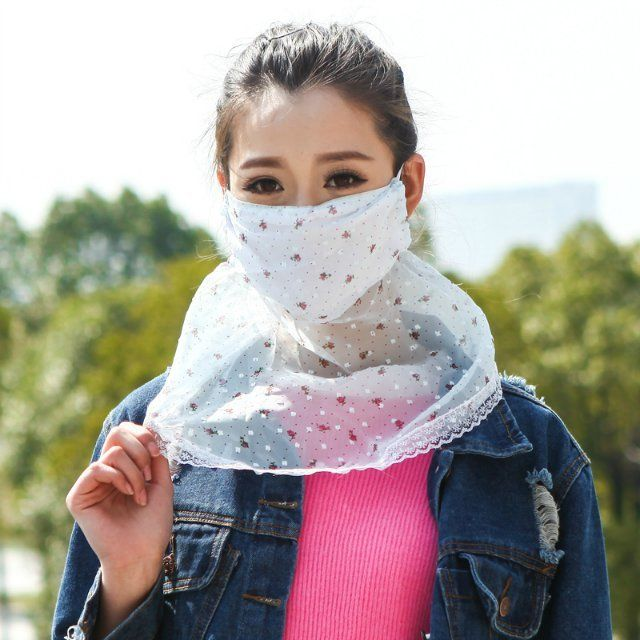face_mask: (222, 86, 399, 313)
